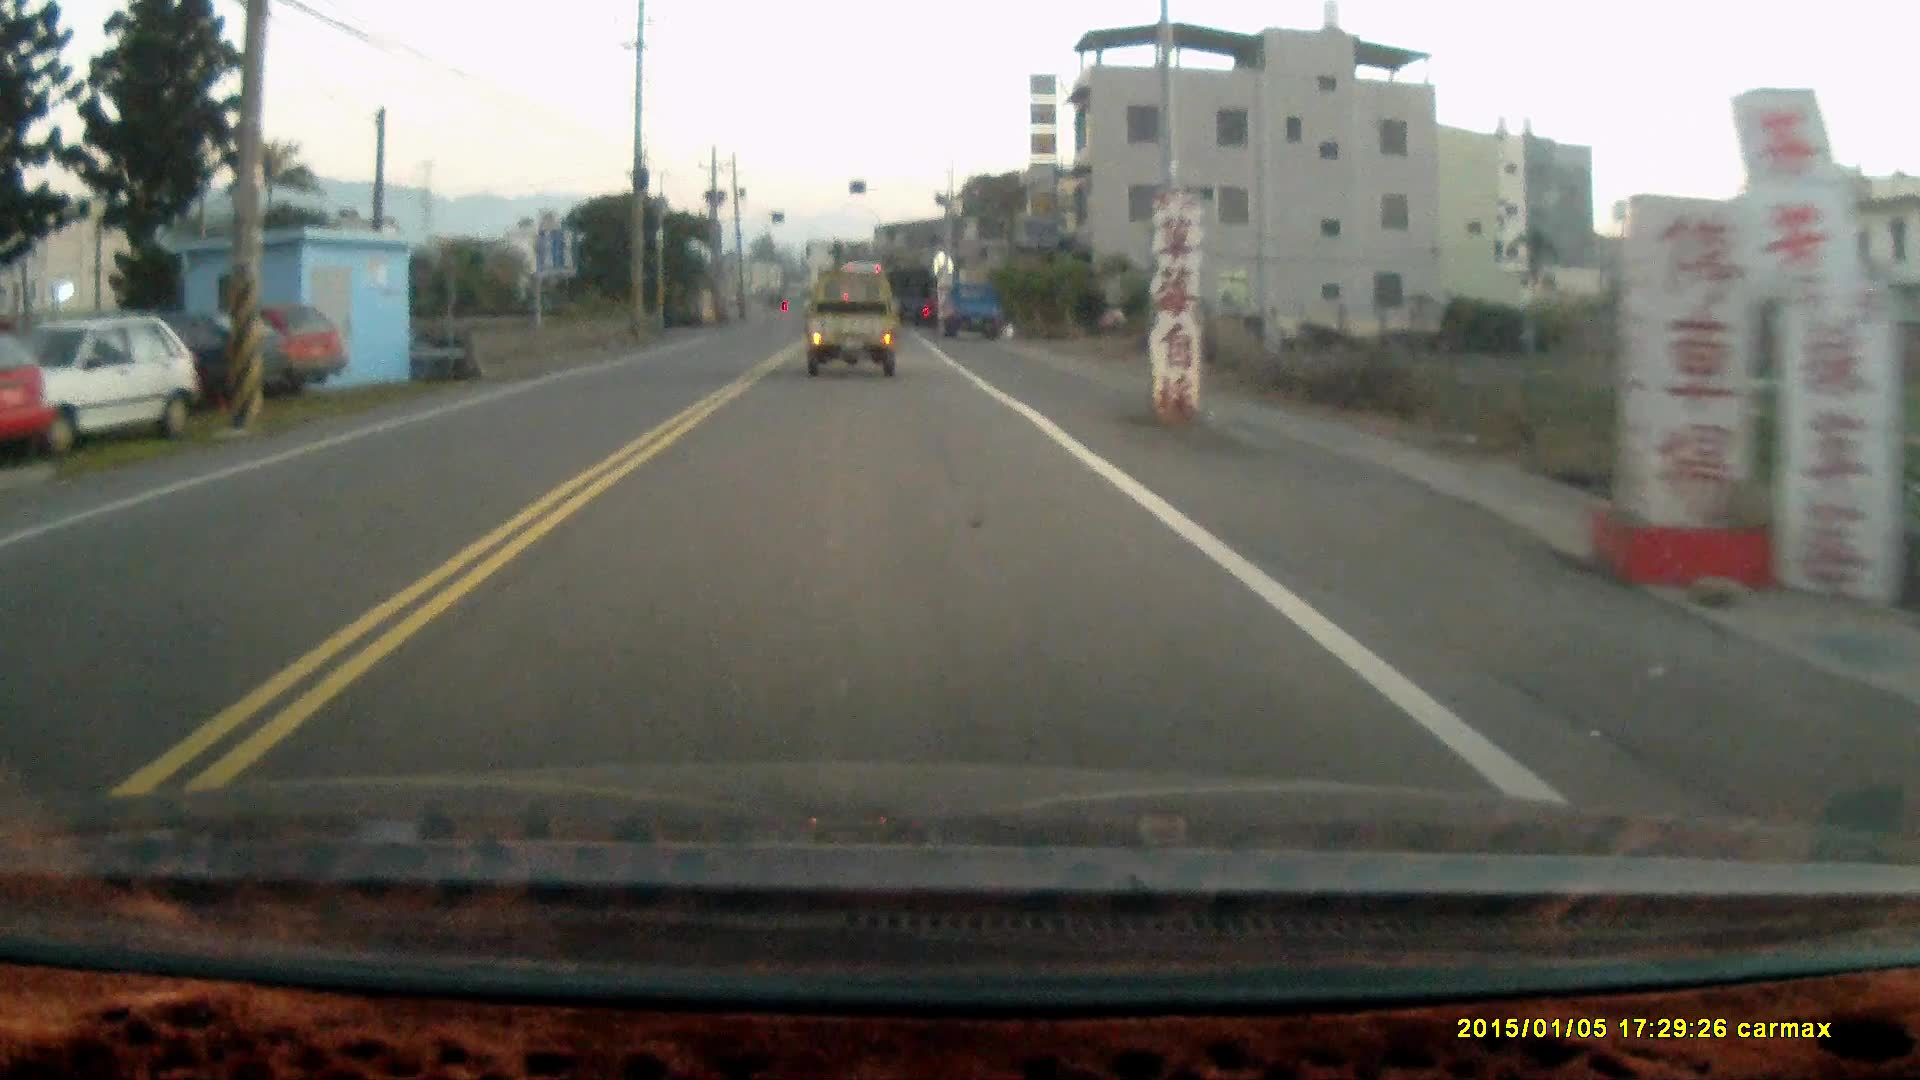vehicle: (1, 320, 206, 452), (146, 295, 353, 392), (806, 274, 902, 386), (1, 319, 55, 469), (940, 278, 1010, 338), (886, 266, 940, 328)
